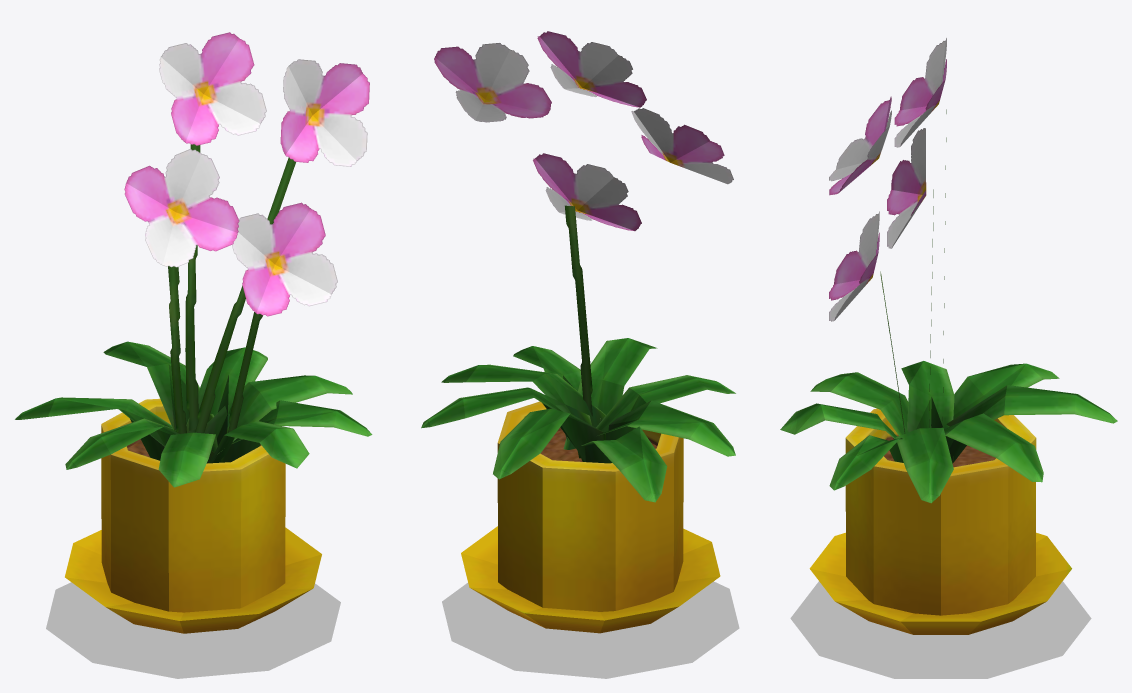
The model's file is kawaiihana.obj.
The picture shows the model from 3 angles, left to right: view 1: azimuth 30°, elevation 25°; view 2: azimuth 150°, elevation 25°; view 3: azimuth 270°, elevation 25°; orthographic projection.
Visible parts, largest first — view 1: polySurface1.002_polySurface1.002_kawaiihana.png, polySurface1.002_polySurface1.002_shadow1.png.042; view 2: polySurface1.002_polySurface1.002_kawaiihana.png, polySurface1.002_polySurface1.002_shadow1.png.042; view 3: polySurface1.002_polySurface1.002_kawaiihana.png, polySurface1.002_polySurface1.002_shadow1.png.042.
Boxes of the visible parts, bbox=[...] form: polySurface1.002_polySurface1.002_kawaiihana.png: bbox=[15, 32, 372, 633]; polySurface1.002_polySurface1.002_shadow1.png.042: bbox=[46, 582, 340, 678]; polySurface1.002_polySurface1.002_kawaiihana.png: bbox=[421, 31, 735, 633]; polySurface1.002_polySurface1.002_shadow1.png.042: bbox=[442, 581, 739, 678]; polySurface1.002_polySurface1.002_kawaiihana.png: bbox=[780, 38, 1117, 634]; polySurface1.002_polySurface1.002_shadow1.png.042: bbox=[790, 581, 1091, 678].
Size of the model in its own units: 1.3 by 2.27 by 1.19.
